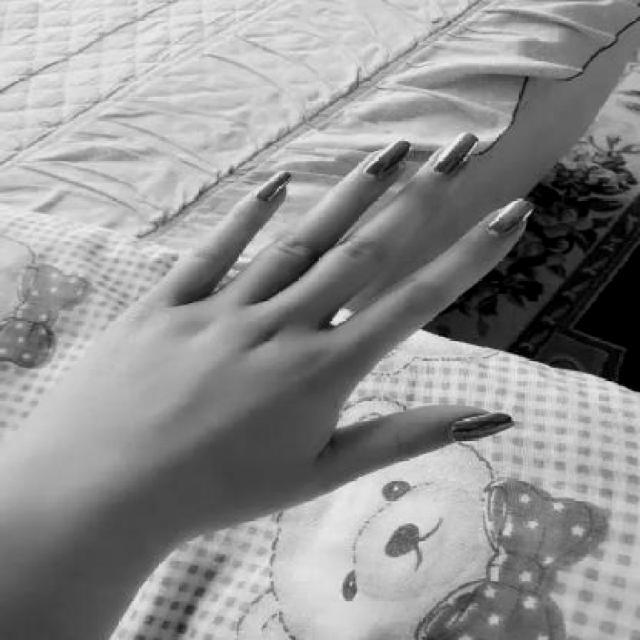hand_noglove: (53, 128, 533, 520)
